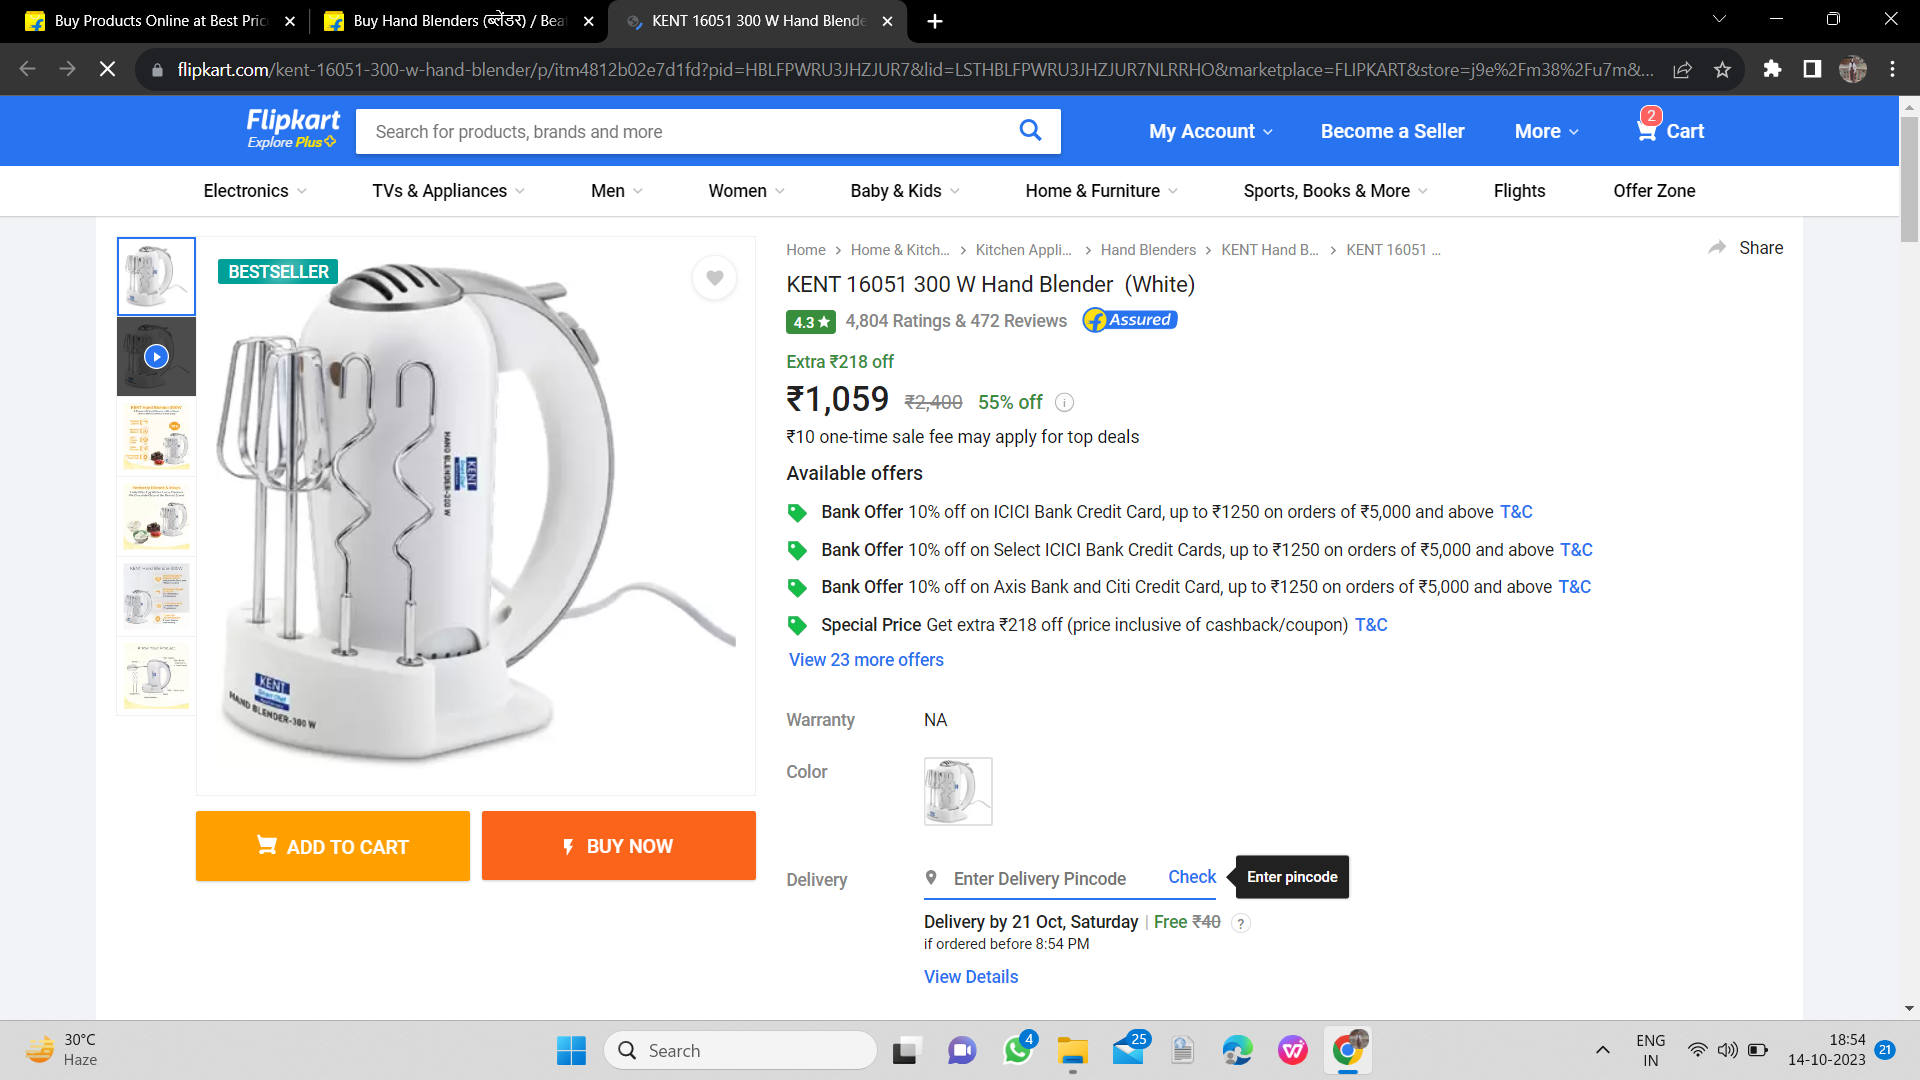Image: (207, 228, 750, 781)
Paragraph: (774, 492, 1655, 669), (774, 856, 1370, 993), (181, 796, 760, 886), (774, 343, 1147, 447), (1129, 102, 1717, 156), (779, 746, 1007, 832), (773, 264, 1200, 298), (773, 302, 1188, 336), (783, 703, 953, 729), (774, 462, 934, 485)
